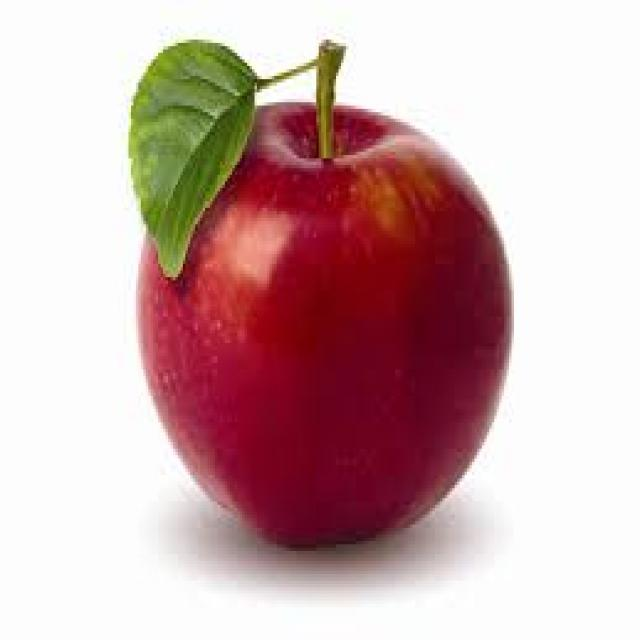organic waste: (136, 102, 509, 551), (123, 37, 262, 290)
